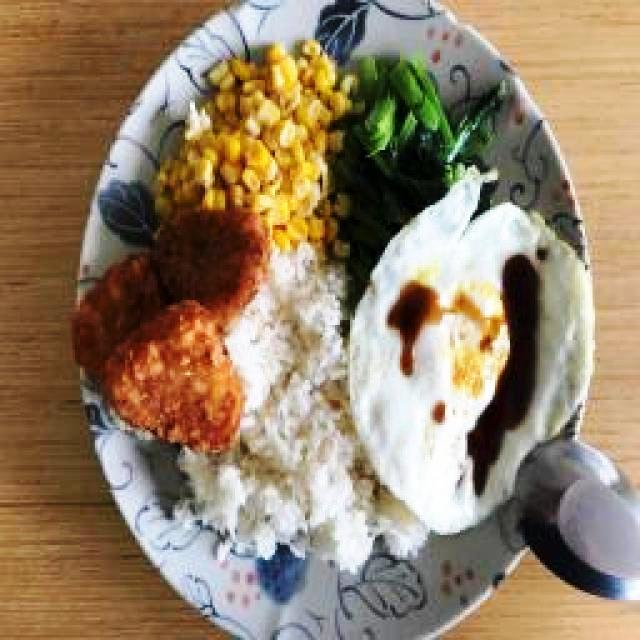Hashbrown: (105, 300, 240, 453), (155, 210, 262, 312), (74, 254, 157, 380)
fried_eggs: (348, 176, 592, 534)
rice: (185, 265, 415, 568)
water_spinach: (349, 54, 504, 249)
